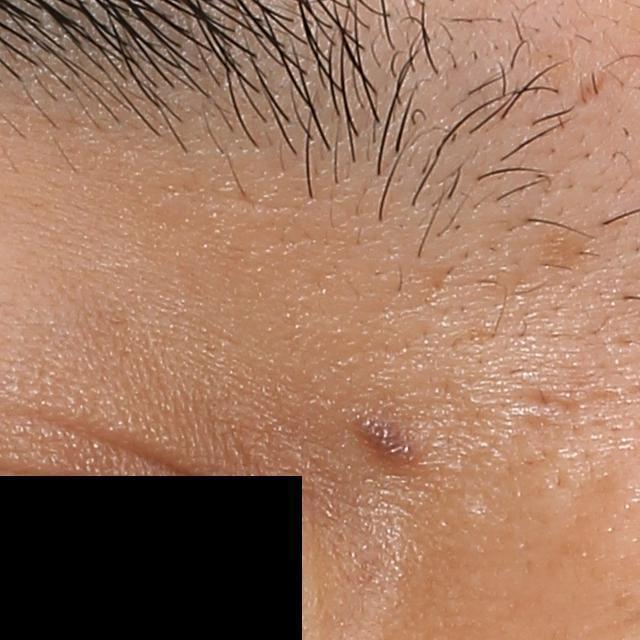atrophic_scar: (574, 74, 607, 106)
